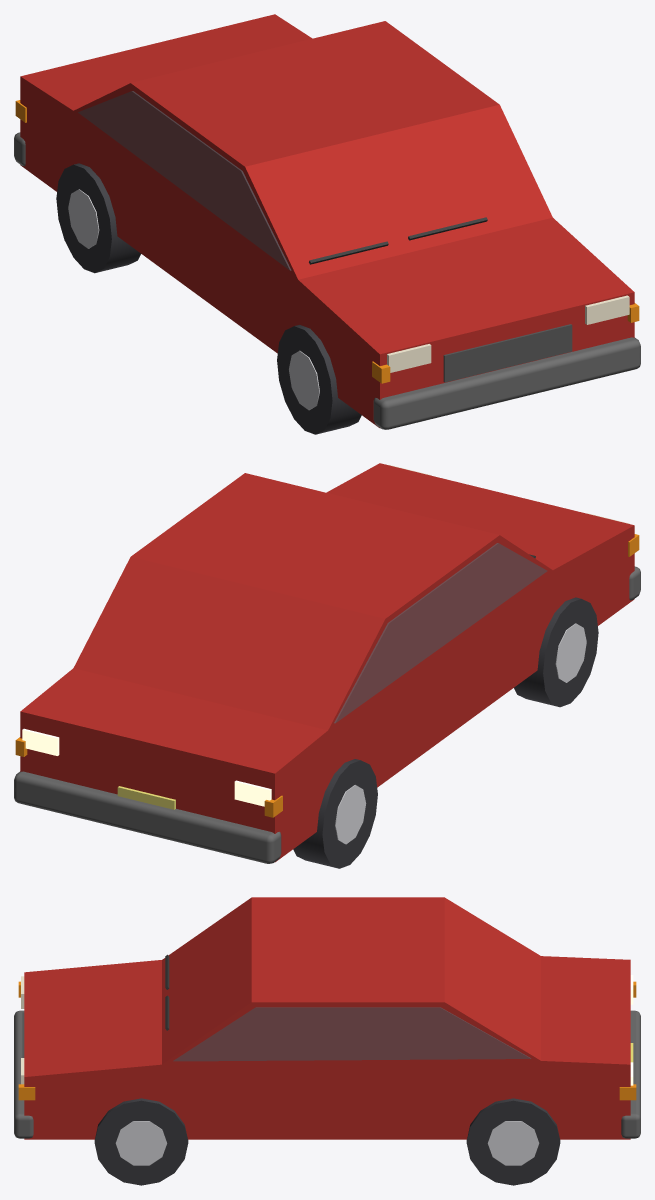
File: car.glb
3 views of the same model, one above another, from view 1: azimuth 30°, elevation 25°; view 2: azimuth 150°, elevation 25°; view 3: azimuth 270°, elevation 25° (orthographic). The views are drawn at different scales.
Visible parts, largest first — view 1: CarPaint, car_detail_std, car_detail_glass, car_detail_metal, Headlight_L, Headlight_R; view 2: CarPaint, car_detail_std, car_detail_glass, car_detail_metal, car_detail_emit; view 3: CarPaint, car_detail_glass, car_detail_std, car_detail_metal.
Part boxes in pixels (bbox=[...]): CarPaint: bbox=[20, 14, 634, 427]; car_detail_std: bbox=[14, 132, 640, 434]; car_detail_glass: bbox=[78, 91, 291, 270]; car_detail_metal: bbox=[68, 189, 319, 410]; Headlight_L: bbox=[585, 295, 629, 324]; Headlight_R: bbox=[387, 344, 431, 372]; CarPaint: bbox=[20, 463, 634, 862]; car_detail_std: bbox=[14, 566, 640, 868]; car_detail_glass: bbox=[334, 543, 546, 723]; car_detail_metal: bbox=[335, 623, 586, 844]; car_detail_emit: bbox=[22, 728, 271, 806]; CarPaint: bbox=[24, 897, 630, 1139]; car_detail_glass: bbox=[173, 1007, 530, 1061]; car_detail_std: bbox=[14, 1010, 640, 1185]; car_detail_metal: bbox=[115, 1121, 539, 1165].
Bounding box in the file's own units: 1.89 × 1.45 × 4.55.
